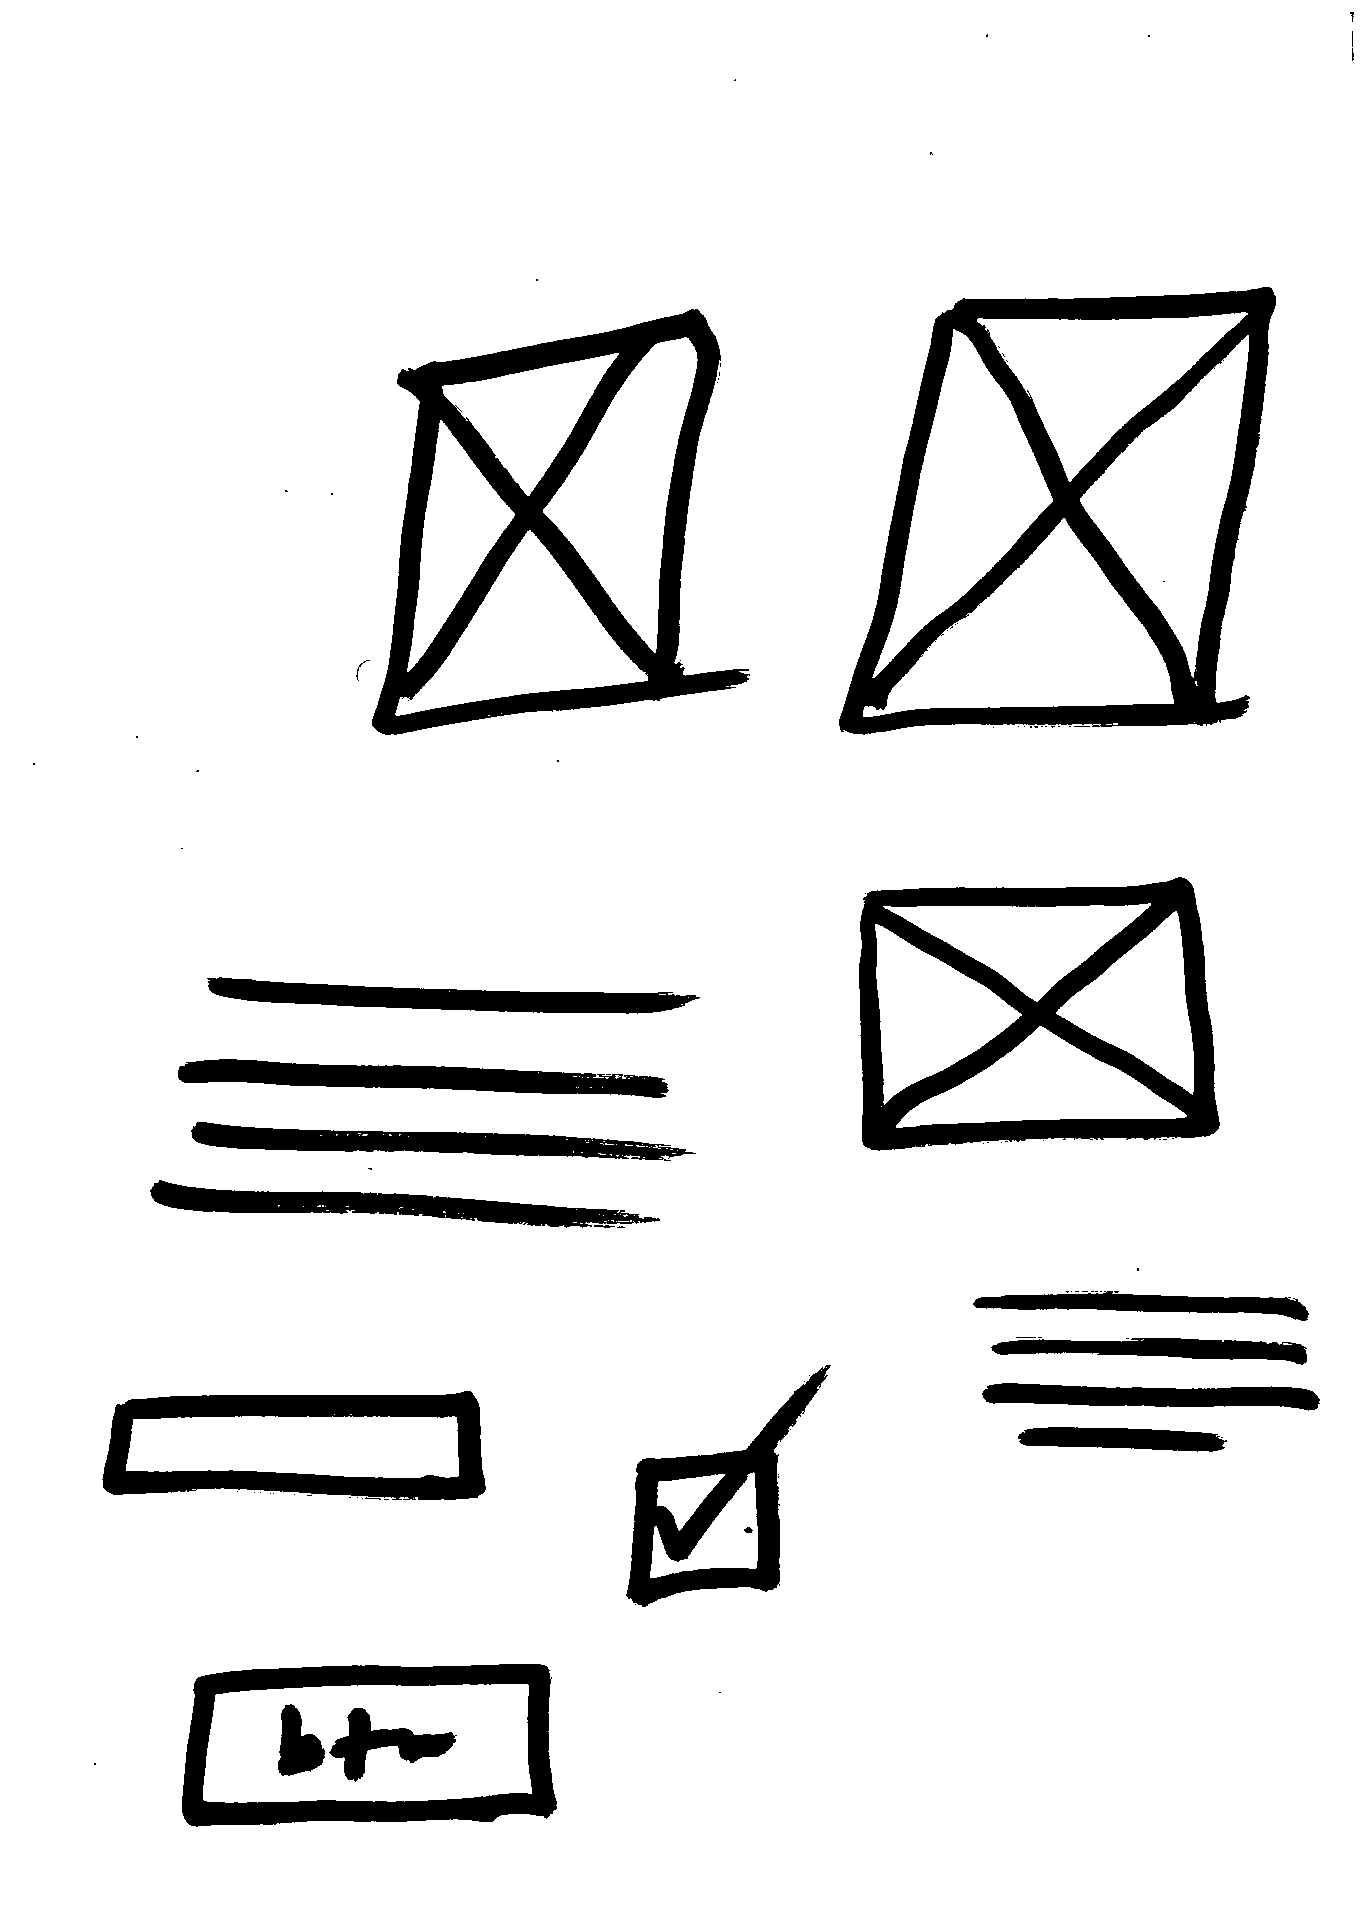Button: (171, 1653, 559, 1838)
Image: (835, 285, 1283, 738), (368, 312, 730, 744), (856, 872, 1227, 1159)
Paragraph: (139, 963, 701, 1235), (971, 1282, 1325, 1462)
Textbox: (95, 1385, 492, 1510)
